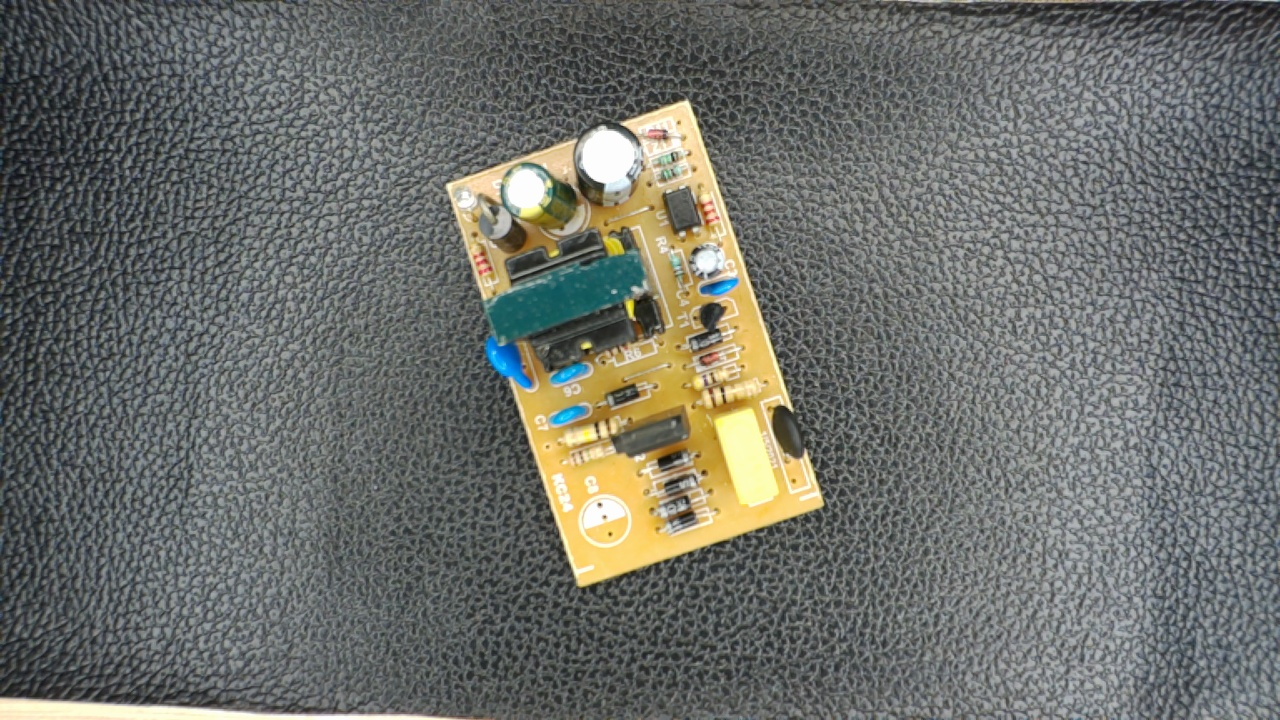fuse: (761, 396, 815, 474)
mov: (479, 327, 540, 395)
optocoupler: (657, 180, 708, 242)
